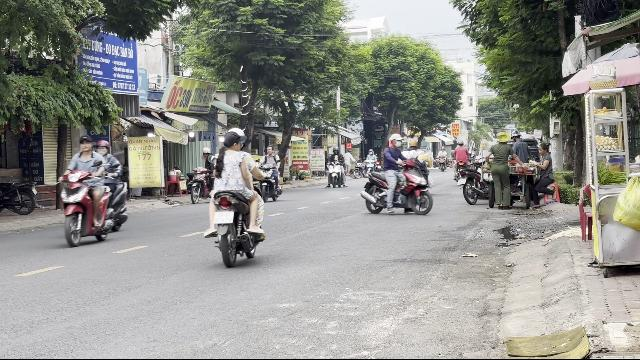helmet: (95, 138, 109, 154)
licenseplate: (214, 210, 232, 221)
motorcyclist: (203, 126, 267, 266), (58, 136, 130, 246), (360, 132, 436, 216)
nohelmet: (221, 130, 243, 154), (78, 135, 92, 153), (388, 133, 402, 147)
